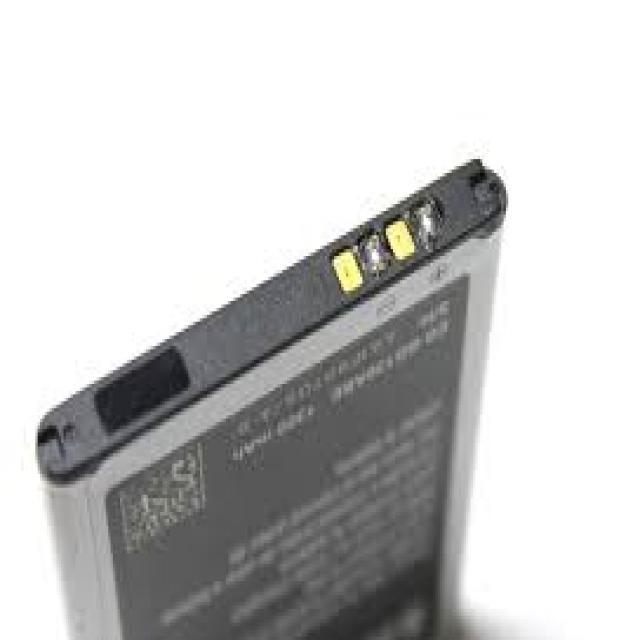battery: (35, 158, 510, 640)
